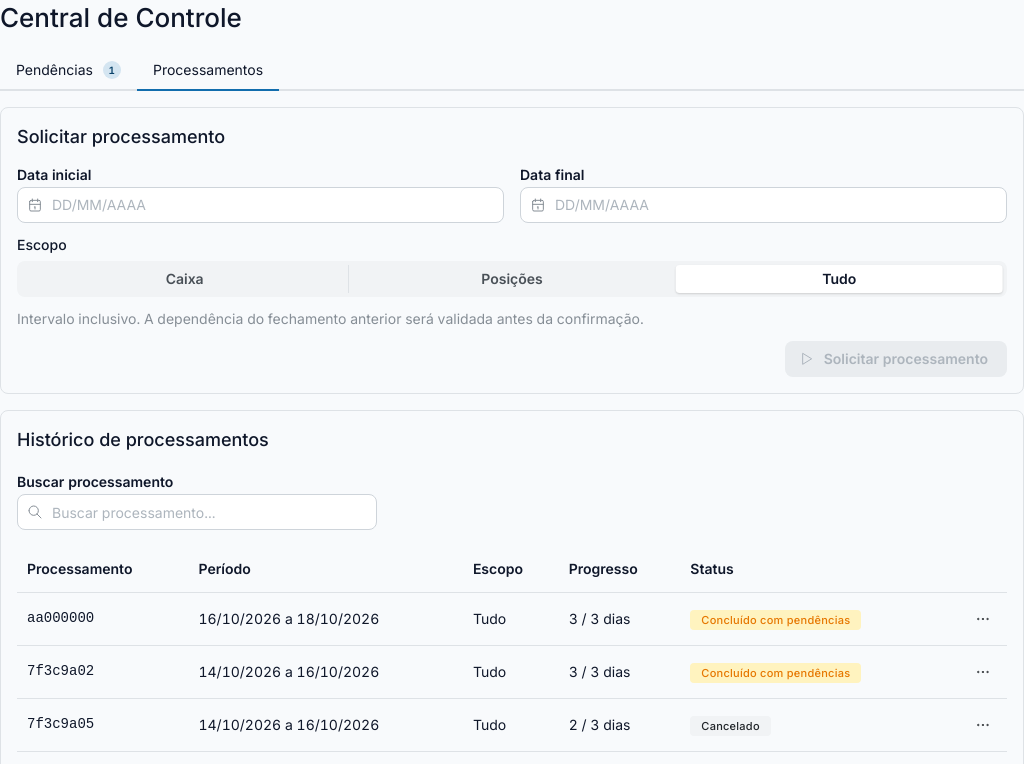
Processamentos: details (§11.1, §10.4) › OQ-40 the failed-chain retry prefills that chain from failed_date to the original end
Click the button named "Ações do processamento" at (983, 619), box left=969, top=605, right=997, bottom=633
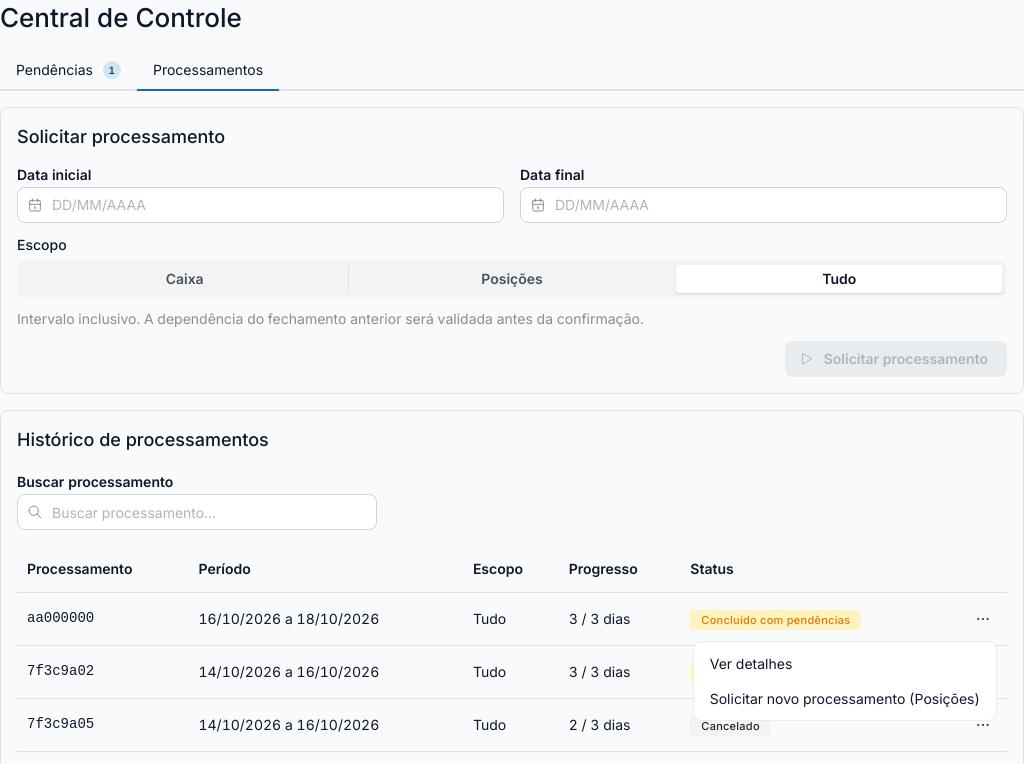
Click the menu item "Ver detalhes" at (751, 663), box left=698, top=646, right=992, bottom=681
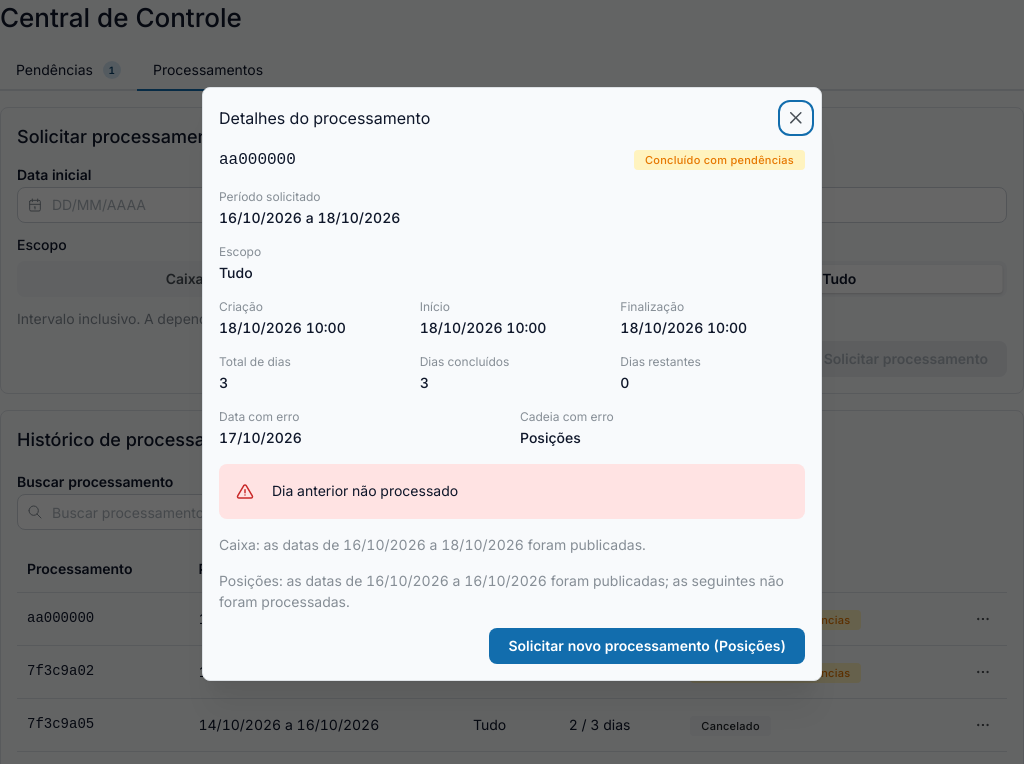
Click the button "Solicitar novo processamento (Posições)" at (647, 646), box left=490, top=628, right=805, bottom=664
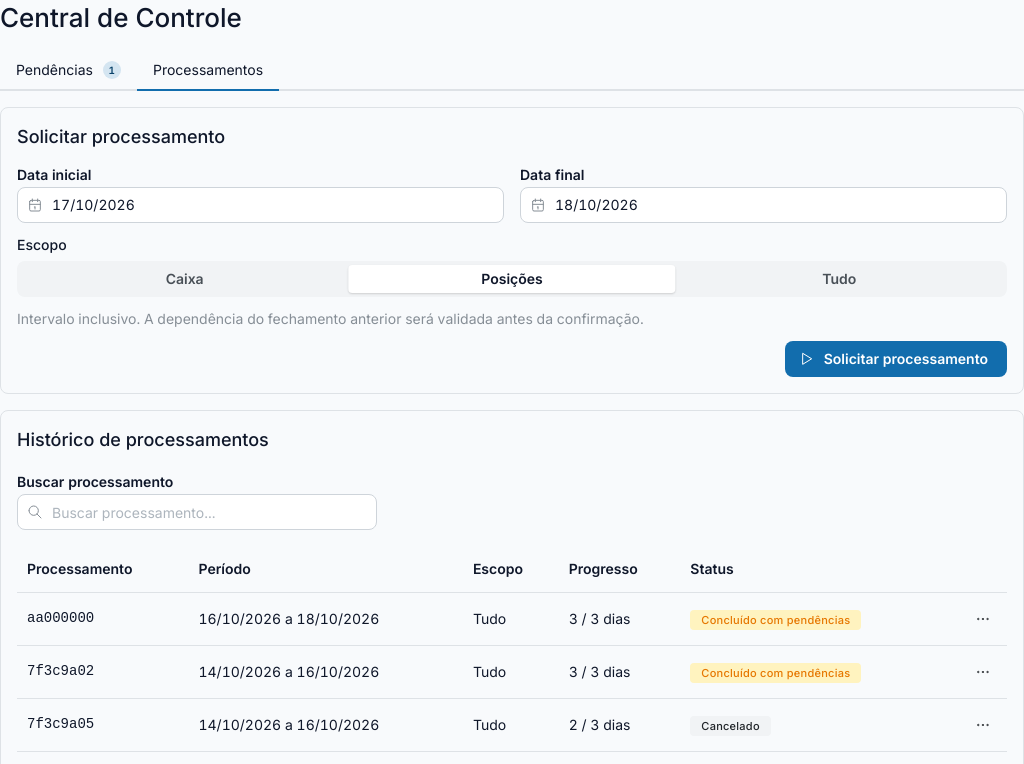
Expected: the radio button labelled "Posições" is checked, left=481, top=270, right=543, bottom=287
